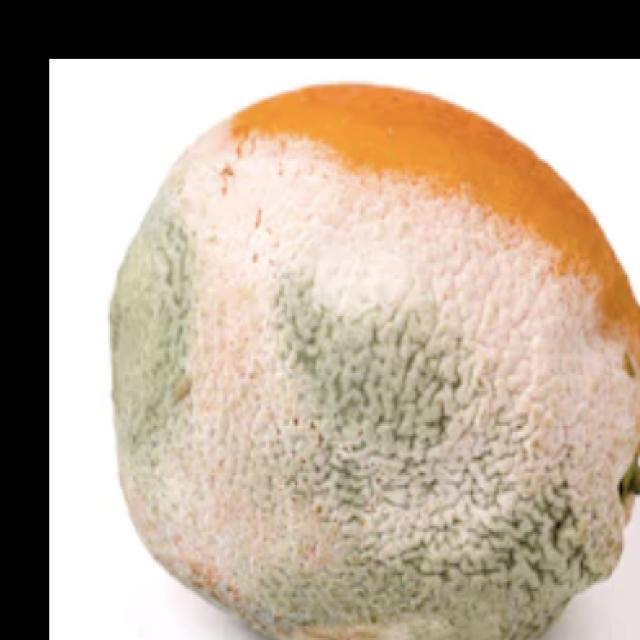sangat-busuk: (111, 85, 639, 639)
